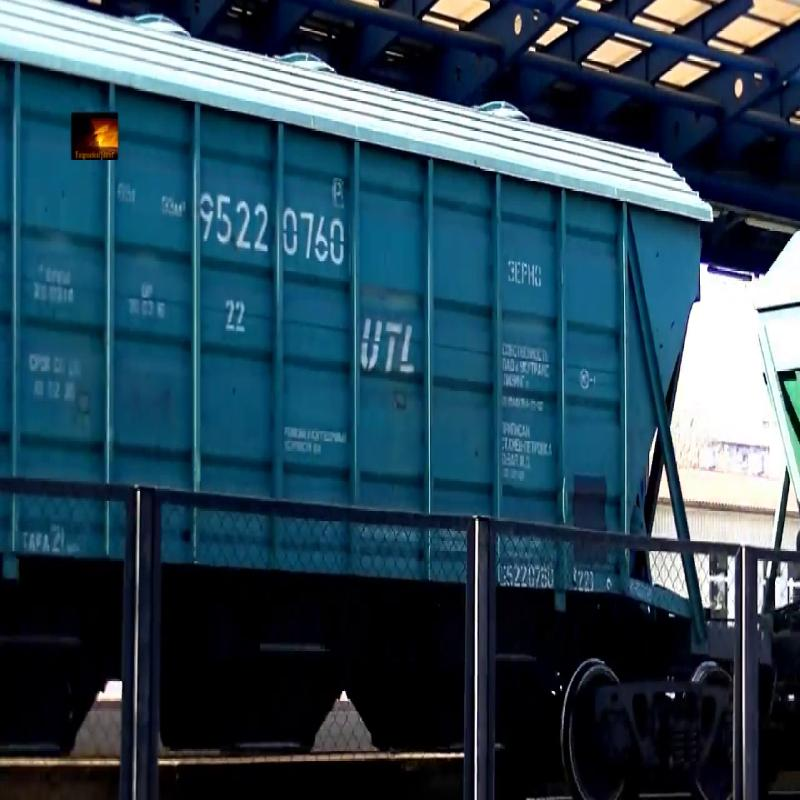train: (1, 2, 721, 742), (742, 6, 800, 725)
